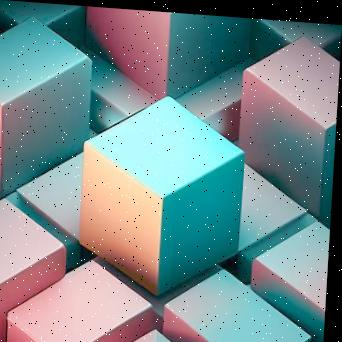cube: (75, 90, 248, 297)
